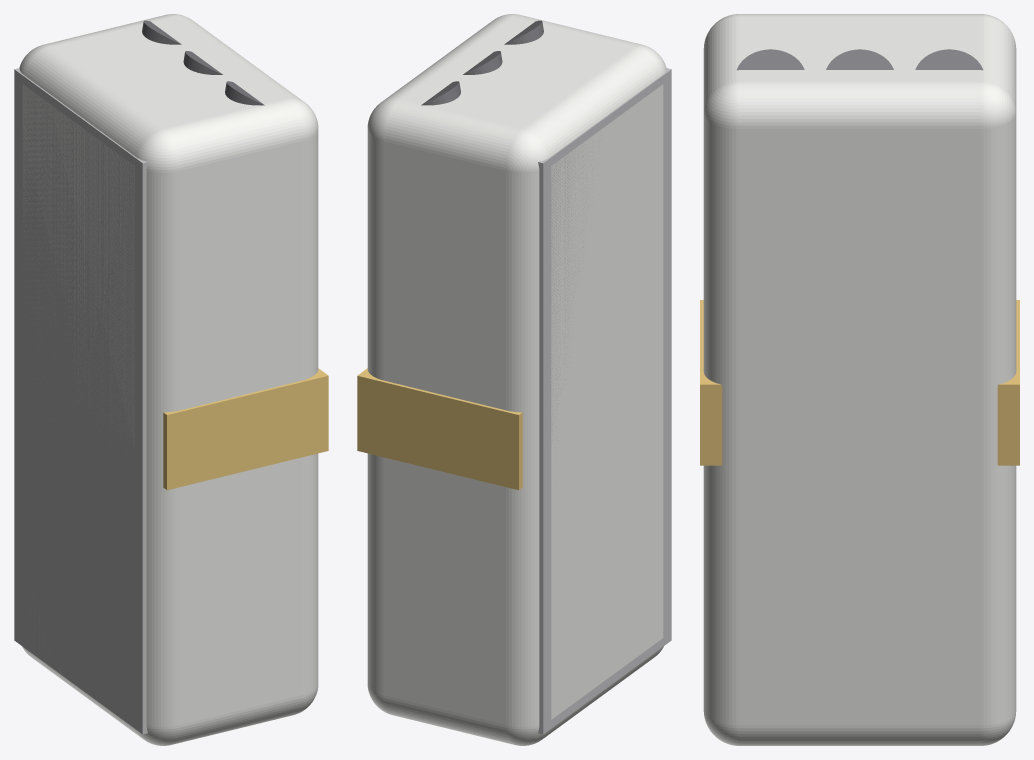
File: prop22_ullage_motor_pack_retro.glb
3 renders of one model, left to right at view 1: azimuth 30°, elevation 25°; view 2: azimuth 150°, elevation 25°; view 3: azimuth 270°, elevation 25°, orthographic. The views are drawn at different scales.
Visible parts, largest first — view 1: fairing, mount_plate, gold_band, nozzles; view 2: fairing, mount_plate, gold_band, nozzles; view 3: fairing, gold_band, nozzles.
Part boxes in pixels (<box>): fairing: <box>19,14,318,745</box>; mount_plate: <box>14,68,147,734</box>; gold_band: <box>163,368,328,490</box>; nozzles: <box>142,20,264,105</box>; fairing: <box>367,14,666,745</box>; mount_plate: <box>538,68,671,734</box>; gold_band: <box>357,368,522,490</box>; nozzles: <box>421,20,543,105</box>; fairing: <box>703,14,1016,745</box>; gold_band: <box>700,300,1019,465</box>; nozzles: <box>736,49,983,70</box>.
Bounding box in the file's own units: 0.25 × 0.8311 × 0.358.
